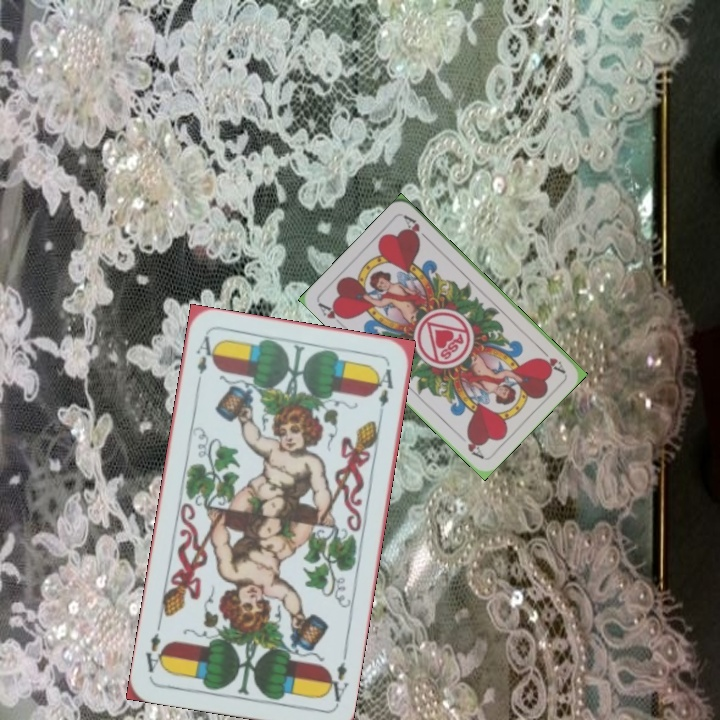EA: (322, 658, 351, 707), (192, 332, 218, 377)
HA: (314, 299, 351, 329), (535, 343, 567, 376)
